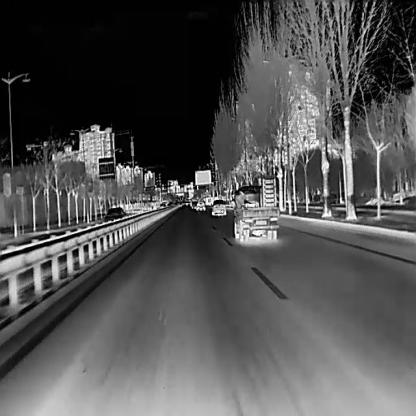car: (103, 206, 128, 229), (210, 198, 226, 216), (196, 198, 204, 209), (190, 201, 197, 208)
truck: (231, 176, 279, 242)
